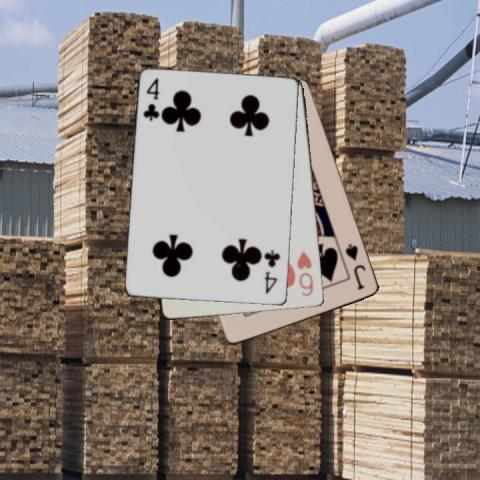4c: (140, 75, 161, 123), (262, 247, 282, 296)
6h: (294, 248, 315, 298)
Js: (343, 241, 367, 291)
